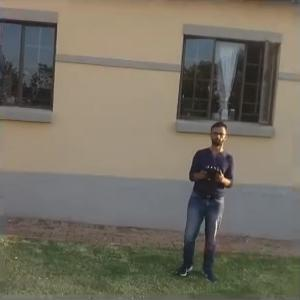follow: (175, 115, 235, 285)
